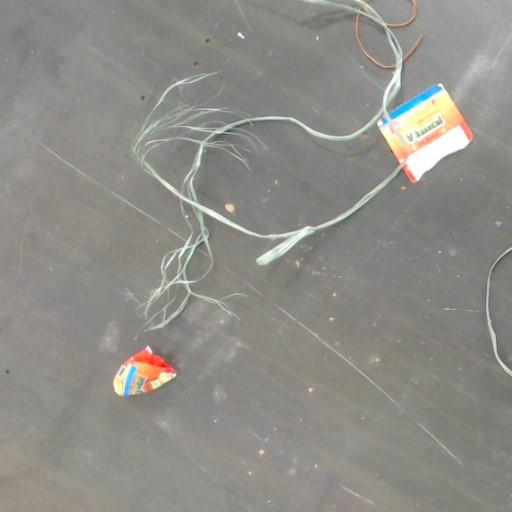conveyor belt: (196, 124, 395, 231)
packet: (377, 84, 473, 182), (114, 346, 176, 396)
thread: (132, 40, 402, 327), (485, 247, 511, 377)
